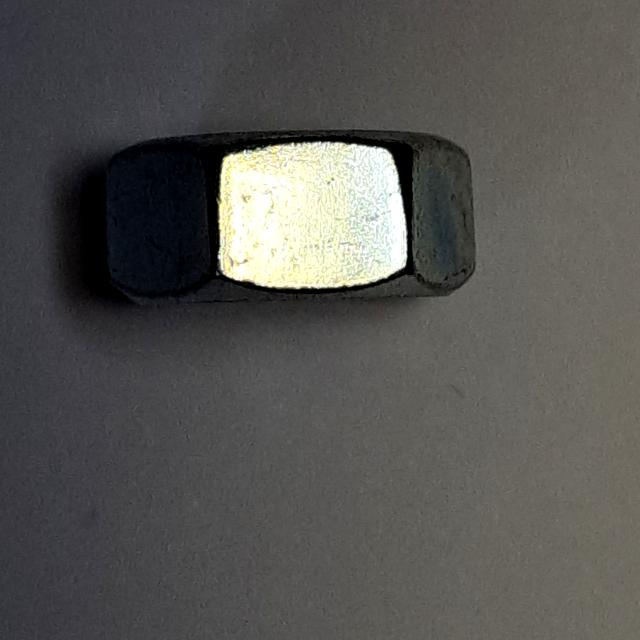Side_Excellent: (87, 106, 502, 340)
